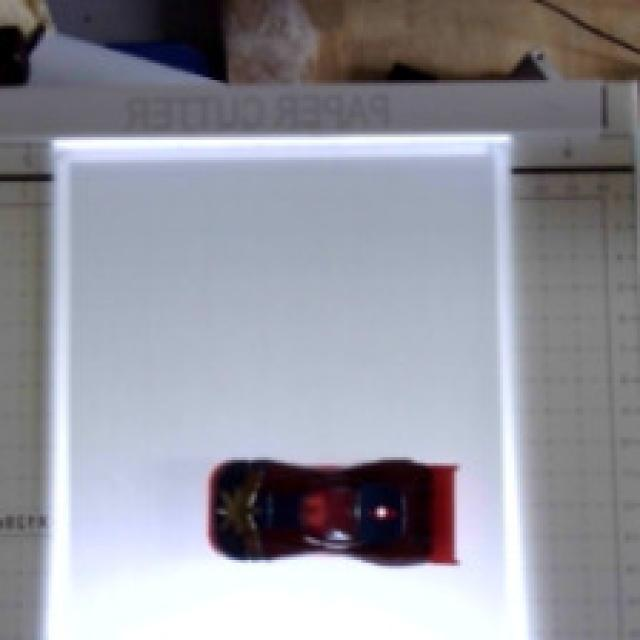Red Car: (171, 432, 476, 622)
